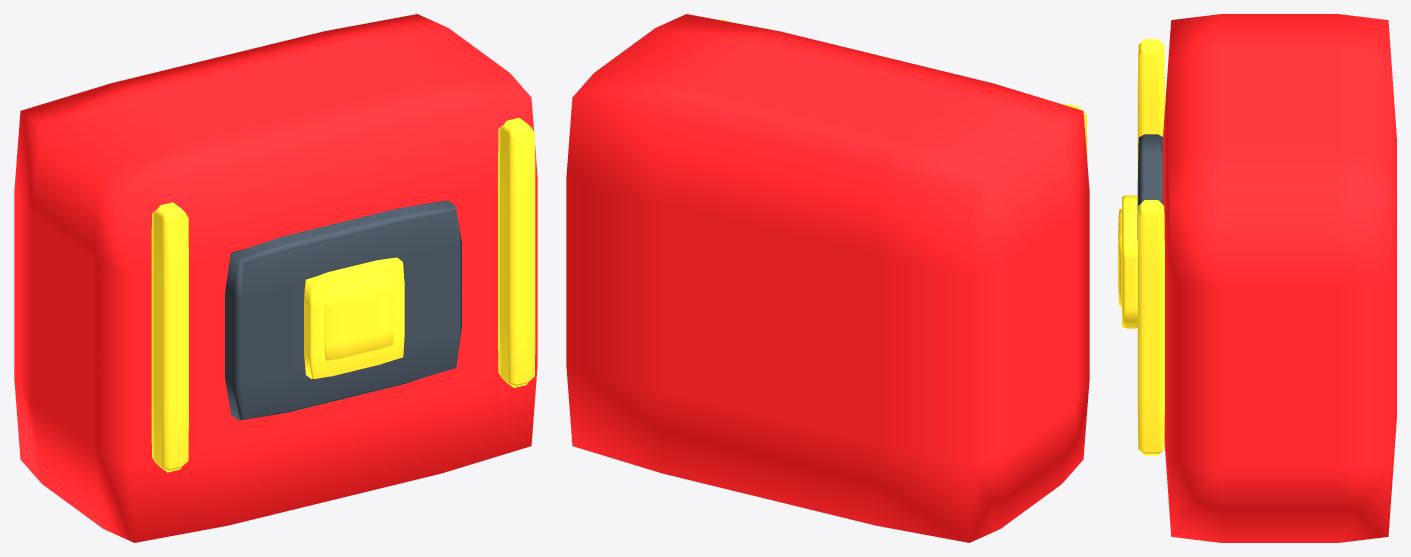
Rendered from uniform-spain-tech.glb.
The picture shows the model from 3 angles, left to right: view 1: azimuth 30°, elevation 25°; view 2: azimuth 150°, elevation 25°; view 3: azimuth 270°, elevation 25°; orthographic projection. The views are drawn at different scales.
Parts seen in each view (by area): view 1: Torso, Panel, StripeL, StripeR, SunCore, Core; view 2: Torso; view 3: Torso, StripeR, StripeL, SunCore, Panel, Core.
Boxes of the visible parts, x1,y1,x2,y2 form: Torso: [14, 14, 537, 542]; Panel: [225, 200, 461, 420]; StripeL: [151, 202, 188, 472]; StripeR: [498, 117, 535, 387]; SunCore: [304, 257, 404, 378]; Core: [324, 274, 394, 360]; Torso: [566, 14, 1089, 542]; Torso: [1163, 14, 1396, 542]; StripeR: [1137, 200, 1164, 455]; StripeL: [1137, 39, 1164, 179]; SunCore: [1121, 195, 1137, 328]; Panel: [1137, 134, 1162, 239]; Core: [1118, 209, 1121, 306].
Bounding box in the file's own units: 2.05 × 1.72 × 1.22.
